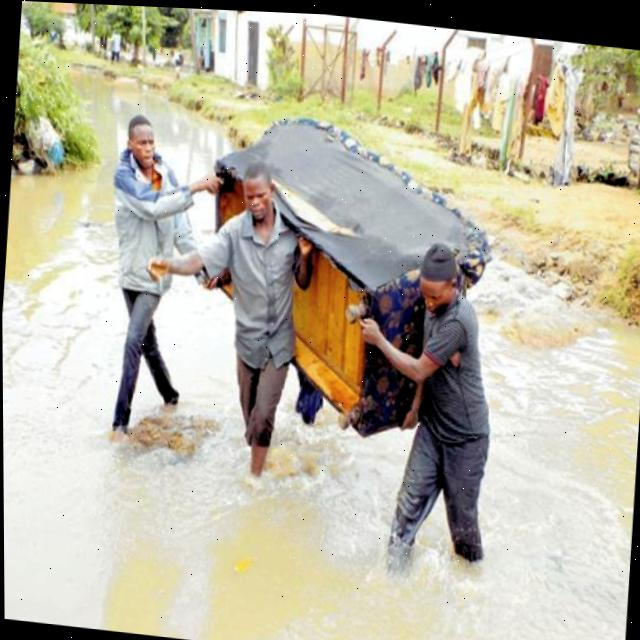civilian: (133, 148, 349, 518), (352, 223, 518, 600), (85, 99, 248, 468)
